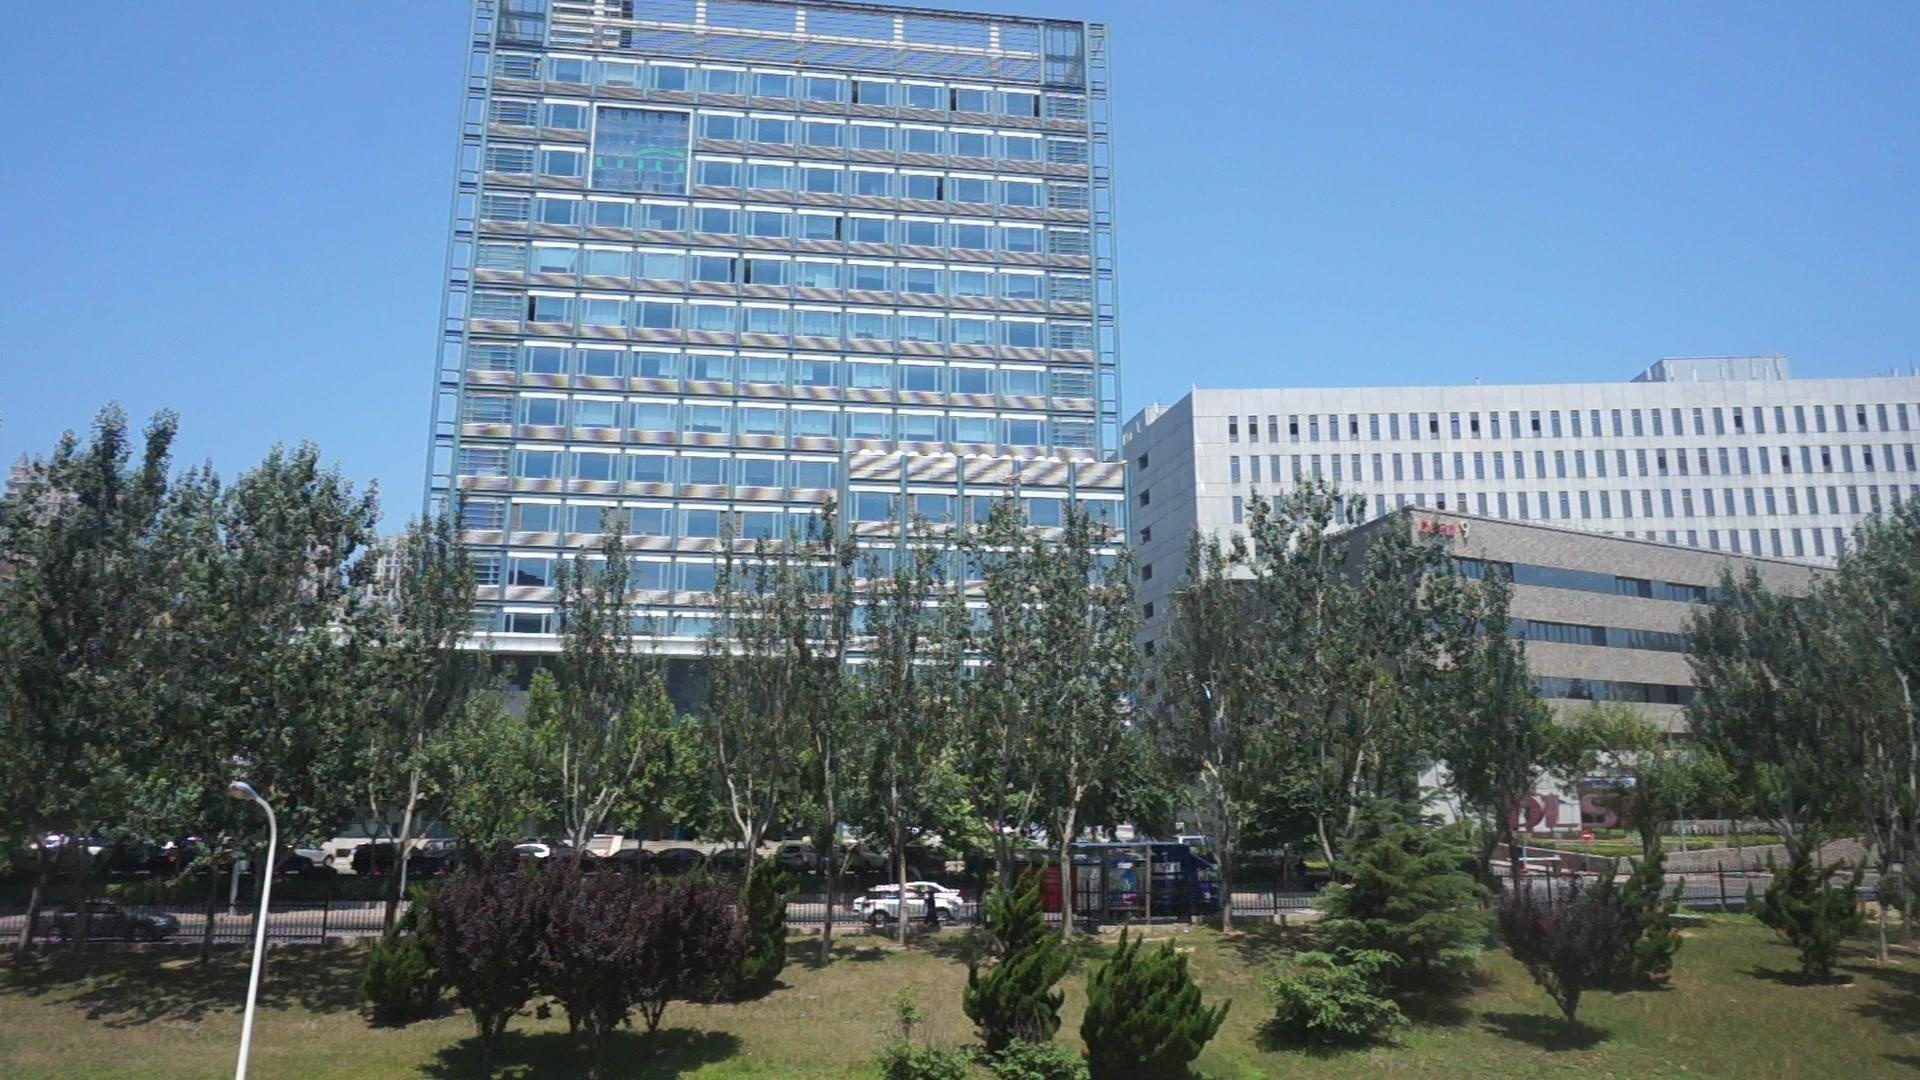UAV: (998, 473, 1029, 487)
